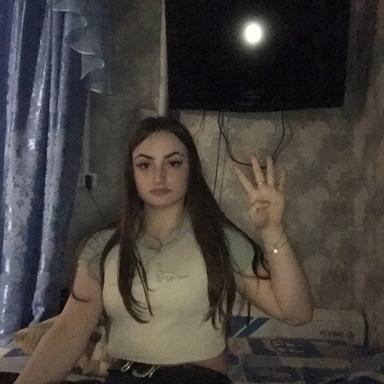four: (232, 151, 289, 230)
